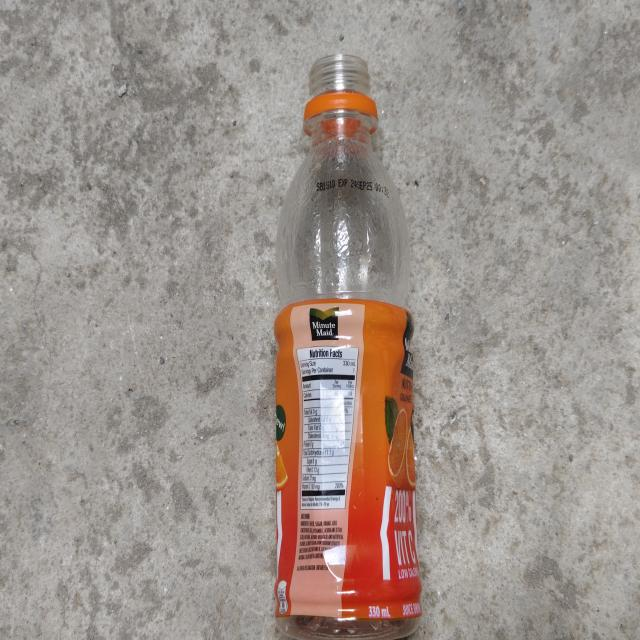Bottle: (275, 55, 421, 638)
